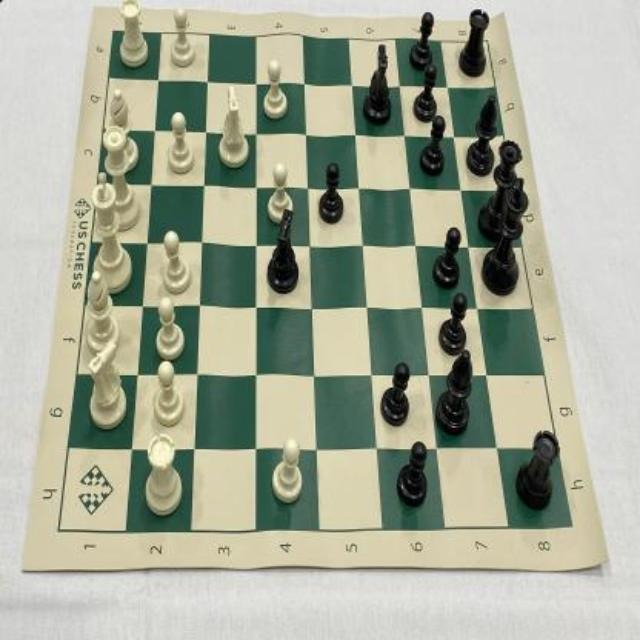black-bishop: (437, 349, 470, 435), (466, 93, 496, 177)
black-king: (486, 177, 530, 298)
black-knight: (266, 208, 298, 295), (361, 43, 390, 123)
black-pawn: (395, 439, 428, 511), (378, 361, 410, 427), (431, 225, 461, 289), (437, 291, 467, 355), (418, 113, 445, 177), (318, 160, 344, 224), (409, 11, 435, 69), (413, 62, 437, 122)
black-queen: (479, 138, 523, 238)
black-rook: (515, 428, 561, 512), (457, 5, 489, 78)
white-bishop: (84, 268, 120, 355), (107, 87, 139, 171)
white-king: (89, 173, 135, 293)
white-knight: (84, 338, 127, 430), (217, 85, 249, 168)
white-pawn: (270, 436, 302, 502), (152, 360, 184, 426), (155, 295, 185, 359), (165, 111, 194, 175), (162, 229, 190, 295), (260, 58, 288, 122), (266, 160, 292, 224), (169, 4, 195, 67)
white-queen: (98, 124, 139, 231)
white-rook: (140, 433, 183, 516), (117, 0, 149, 69)
